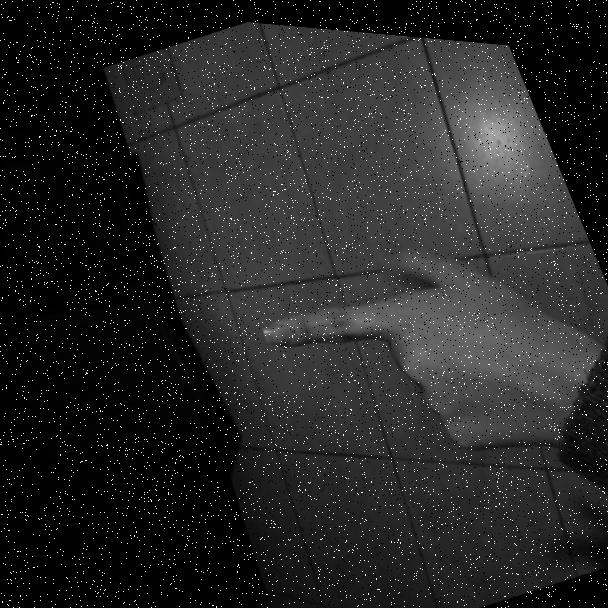one: (209, 126, 608, 527)
